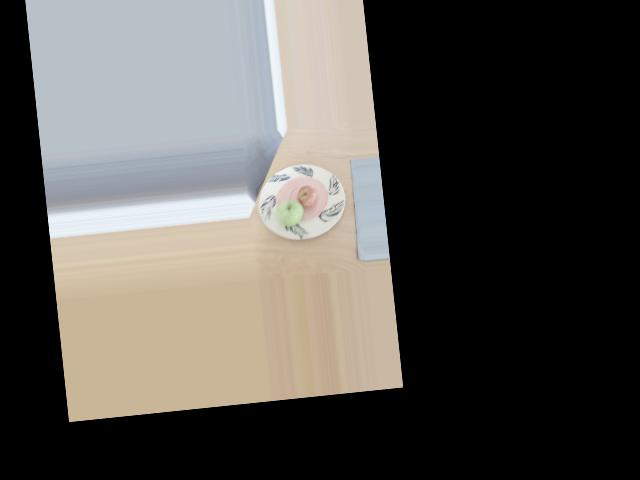apple: (273, 199, 305, 230)
